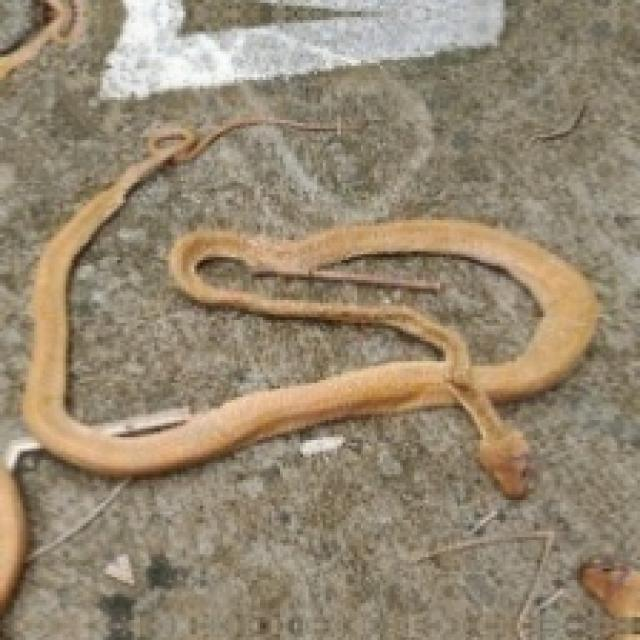philippine cat snake: (23, 117, 594, 494), (194, 251, 543, 366)
